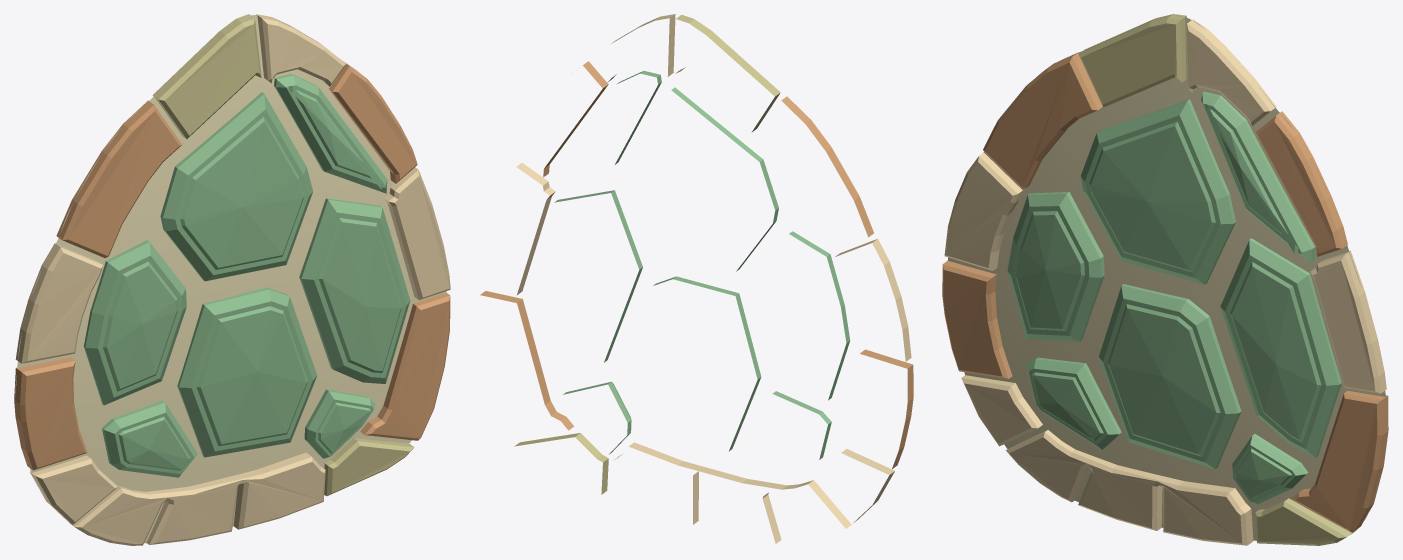
File: PalaCaparazon_Espejo.glb
3 renders of one model, left to right at view 1: azimuth 30°, elevation 25°; view 2: azimuth 150°, elevation 25°; view 3: azimuth 330°, elevation 25°, orthographic. The views are drawn at different scales.
Visible parts, largest first — view 1: Blade_ScutesGreen_Atras, Blade_MarginalTan_Atras, Blade_Base_Atras, Blade_MarginalBrown_Atras, Blade_MarginalOlive_Atras; view 2: Blade_MarginalTan_Atras, Blade_ScutesGreen_Atras, Blade_MarginalBrown_Atras, Blade_MarginalOlive_Atras; view 3: Blade_ScutesGreen_Atras, Blade_MarginalTan_Atras, Blade_Base_Atras, Blade_MarginalBrown_Atras, Blade_MarginalOlive_Atras.
Part boxes in pixels (left/top/right/bottom): Blade_ScutesGreen_Atras: left=84, top=74, right=410, bottom=477; Blade_MarginalTan_Atras: left=15, top=14, right=450, bottom=545; Blade_Base_Atras: left=15, top=15, right=446, bottom=543; Blade_MarginalBrown_Atras: left=14, top=63, right=450, bottom=470; Blade_MarginalOlive_Atras: left=152, top=14, right=414, bottom=496; Blade_MarginalTan_Atras: left=516, top=14, right=911, bottom=543; Blade_ScutesGreen_Atras: left=554, top=71, right=850, bottom=459; Blade_MarginalBrown_Atras: left=480, top=61, right=913, bottom=468; Blade_MarginalOlive_Atras: left=514, top=14, right=780, bottom=494; Blade_ScutesGreen_Atras: left=1007, top=91, right=1341, bottom=503; Blade_MarginalTan_Atras: left=944, top=19, right=1386, bottom=545; Blade_Base_Atras: left=948, top=15, right=1386, bottom=540; Blade_MarginalBrown_Atras: left=942, top=52, right=1388, bottom=532; Blade_MarginalOlive_Atras: left=1079, top=14, right=1351, bottom=545.
Size of the model in its own units: 1.7 by 1.9 by 0.1411.
